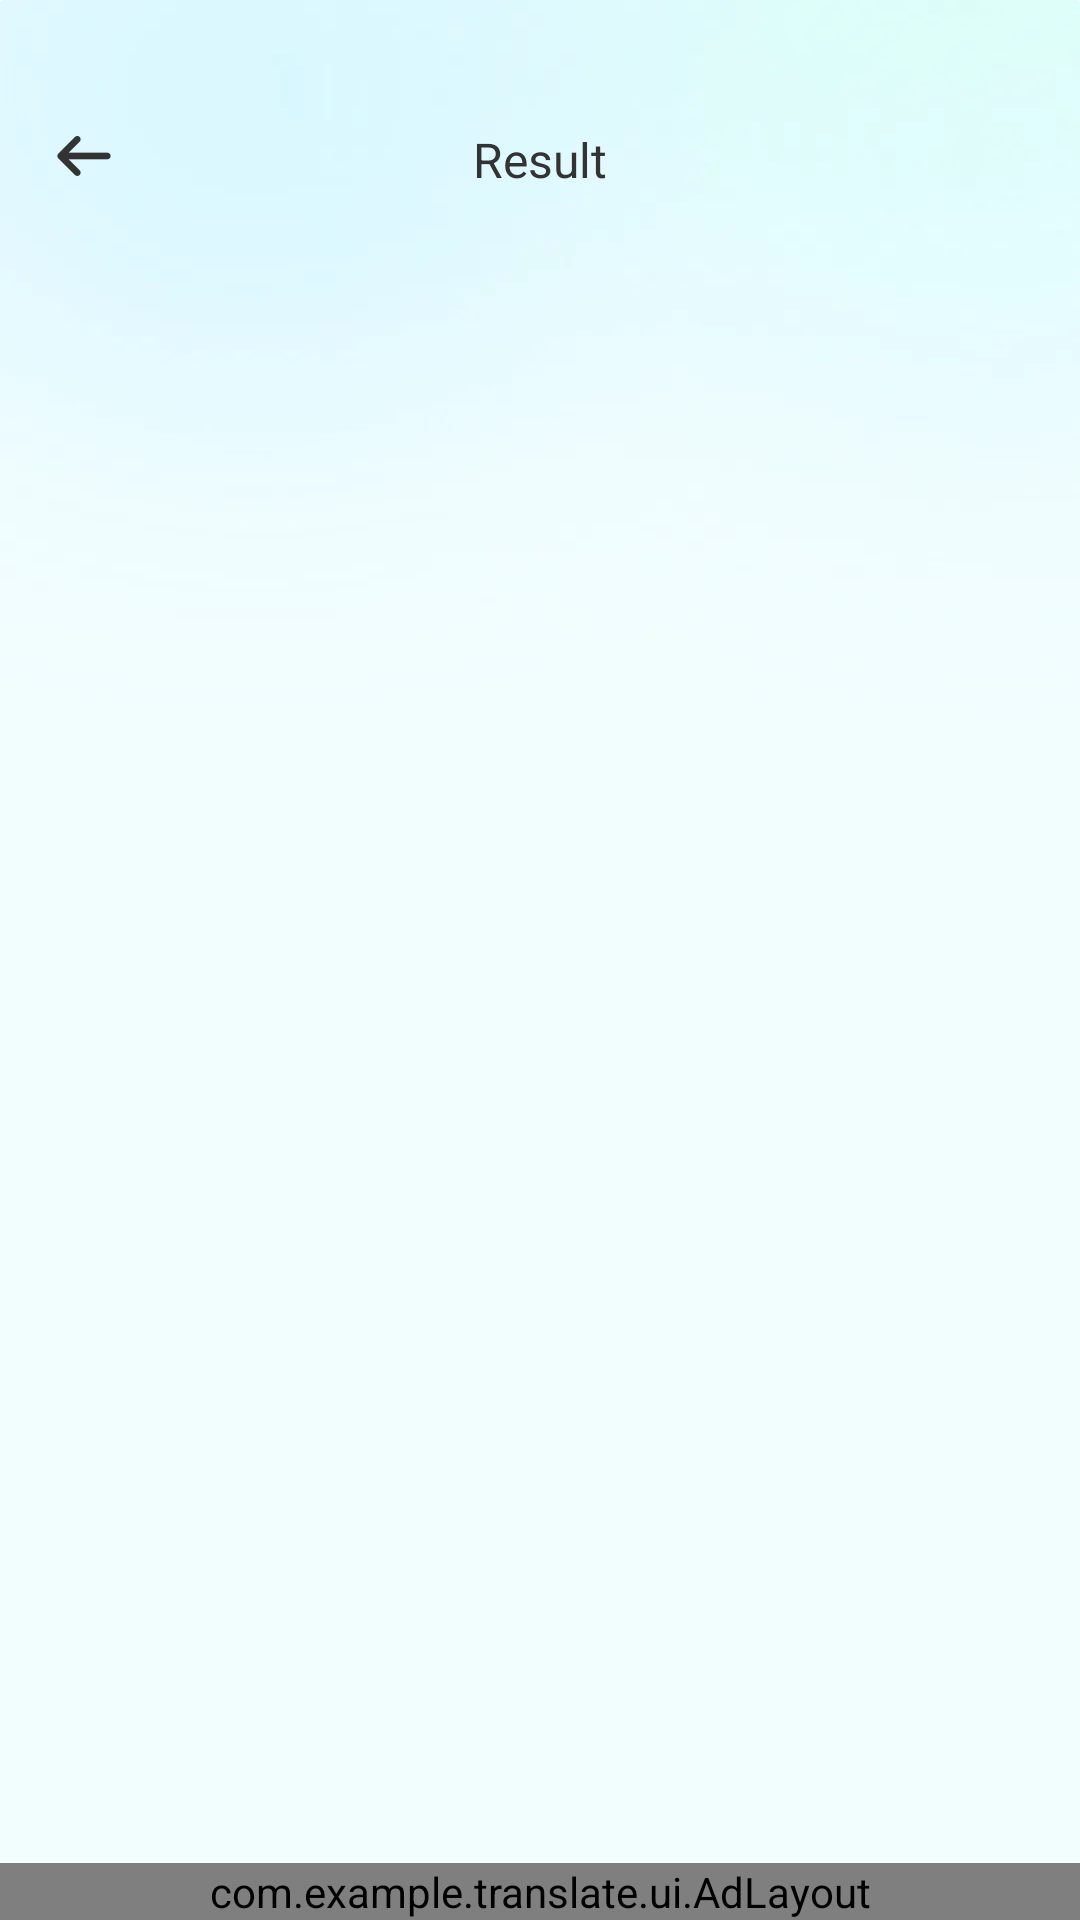

Screen size 1080×1920. Icon name, then its box in pixels as (x1, y1, x2, y2):
back: (57, 136, 111, 176)
